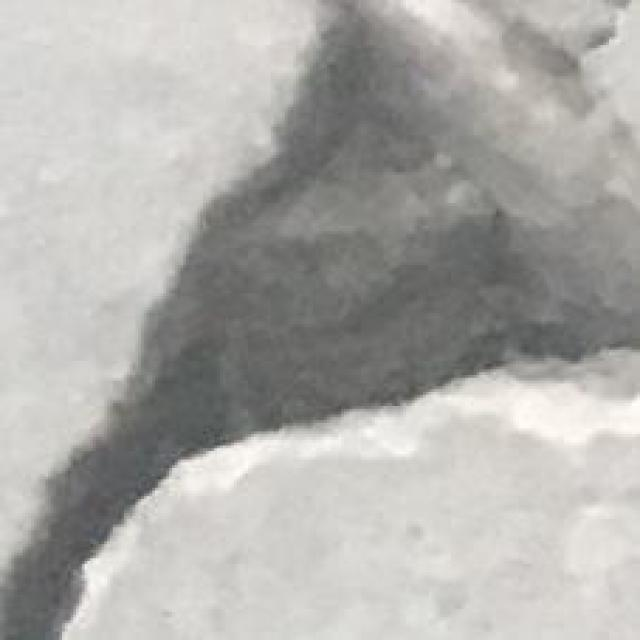Crack: (3, 9, 640, 637)
